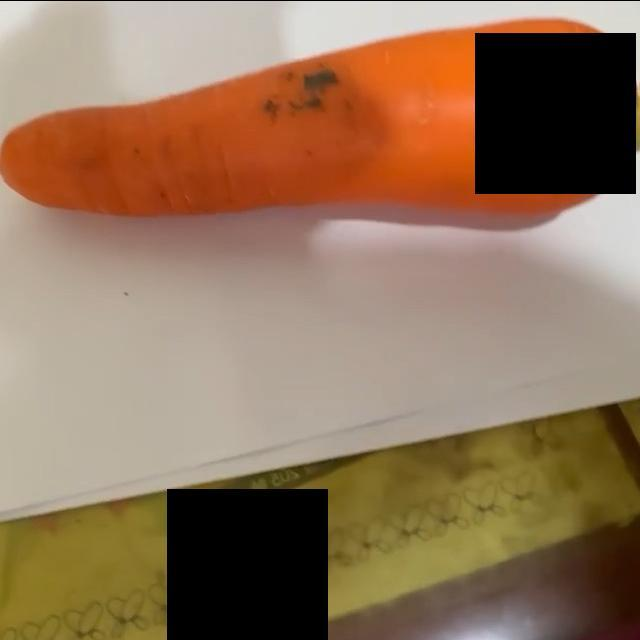carrot: (1, 17, 640, 221)
